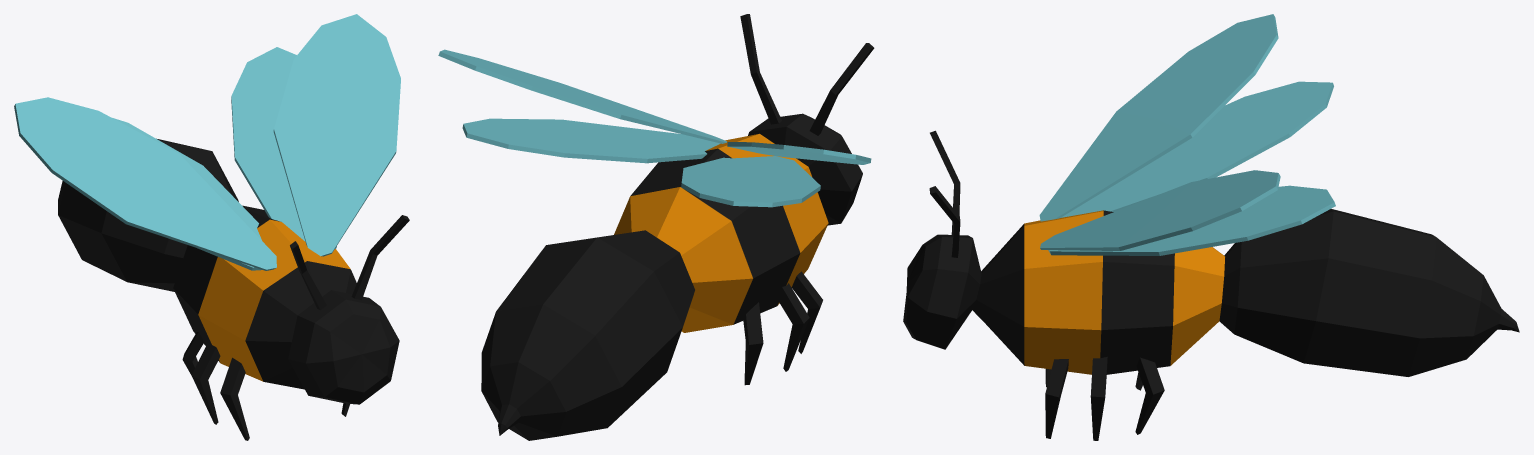
File: Bee_01.fbx
3 renders of one model, left to right at view 1: azimuth 30°, elevation 25°; view 2: azimuth 150°, elevation 25°; view 3: azimuth 270°, elevation 25°, orthographic. The views are drawn at different scales.
Visible parts, largest first — view 1: Bee_01; view 2: Bee_01; view 3: Bee_01.
Boxes of the visible parts, x1,y1,x2,y2 form: Bee_01: [14, 14, 409, 440]; Bee_01: [438, 14, 874, 440]; Bee_01: [903, 14, 1519, 440].
Size of the model in its own units: 3.98 by 3.05 by 5.43.
